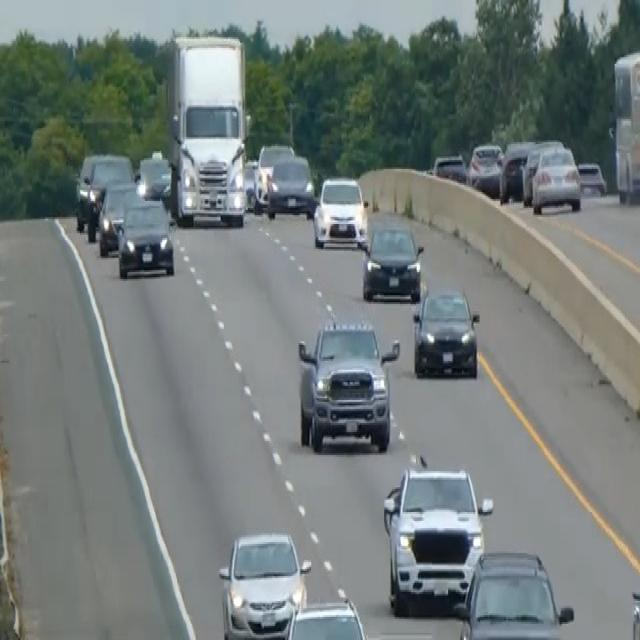car: (455, 548, 574, 638), (217, 528, 311, 638), (411, 284, 480, 378), (360, 219, 424, 302), (116, 194, 175, 279), (75, 149, 133, 235), (312, 172, 368, 249), (282, 596, 370, 638), (531, 144, 582, 213), (265, 153, 314, 219), (97, 178, 138, 256), (521, 137, 563, 204), (253, 140, 294, 208), (498, 138, 534, 202), (135, 148, 172, 206), (467, 140, 503, 196), (74, 151, 98, 229), (431, 151, 467, 185), (577, 158, 607, 198), (242, 158, 258, 210)
jeep: (381, 453, 493, 615), (295, 313, 400, 455)
lorry: (166, 32, 248, 228)
